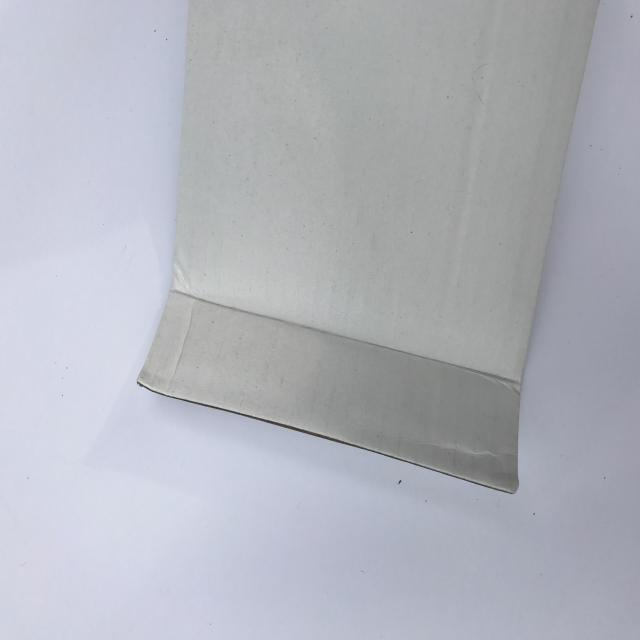cardboard: (136, 0, 602, 494)
